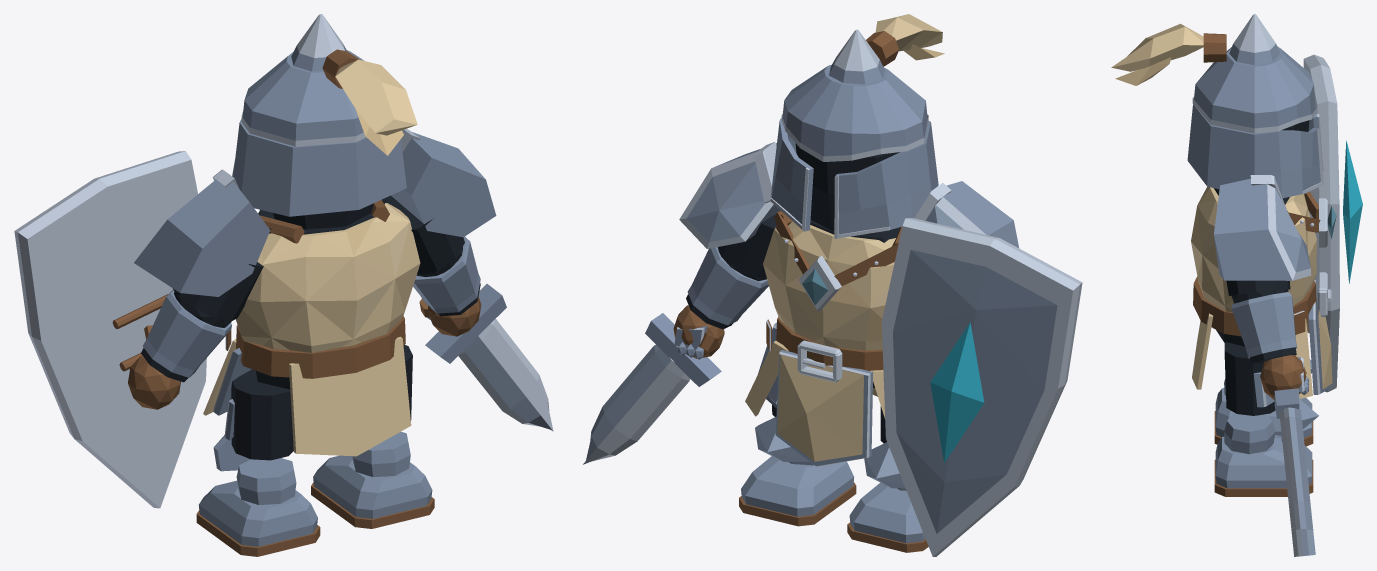
File: warrior_shield.glb
The picture shows the model from 3 angles, left to right: view 1: azimuth 30°, elevation 25°; view 2: azimuth 150°, elevation 25°; view 3: azimuth 270°, elevation 25°; orthographic projection. The views are drawn at different scales.
Visible parts, largest first — view 1: Shield, Body, Head, Arm.L, Leg.L, Arm.R, Leg.R, Sword; view 2: Shield, Body, Head, Arm.R, Sword, Leg.R, Leg.L, Arm.L; view 3: Head, Arm.R, Body, Leg.R, Shield, Sword, Leg.L.
Boxes of the visible parts, left/top/right/bottom form: Shield: left=14, top=151, right=206, bottom=508; Body: left=203, top=198, right=420, bottom=456; Head: left=232, top=14, right=417, bottom=228; Arm.L: left=128, top=169, right=270, bottom=409; Leg.L: left=196, top=369, right=320, bottom=556; Arm.R: left=385, top=129, right=496, bottom=336; Leg.R: left=311, top=345, right=434, bottom=528; Sword: left=425, top=284, right=553, bottom=431; Shield: left=881, top=218, right=1082, bottom=556; Body: left=745, top=211, right=902, bottom=466; Head: left=770, top=14, right=944, bottom=238; Arm.R: left=673, top=142, right=780, bottom=359; Sword: left=583, top=313, right=721, bottom=464; Leg.R: left=739, top=405, right=856, bottom=526; Leg.L: left=847, top=406, right=928, bottom=552; Arm.L: left=914, top=181, right=1018, bottom=247; Head: left=1111, top=14, right=1323, bottom=198; Arm.R: left=1213, top=175, right=1311, bottom=400; Body: left=1191, top=186, right=1336, bottom=407; Leg.R: left=1214, top=342, right=1318, bottom=496; Shield: left=1303, top=54, right=1362, bottom=392; Sword: left=1274, top=388, right=1315, bottom=556; Leg.L: left=1214, top=359, right=1313, bottom=446.
Bounding box in the file's own units: 1.29 × 1.18 × 0.6119.
